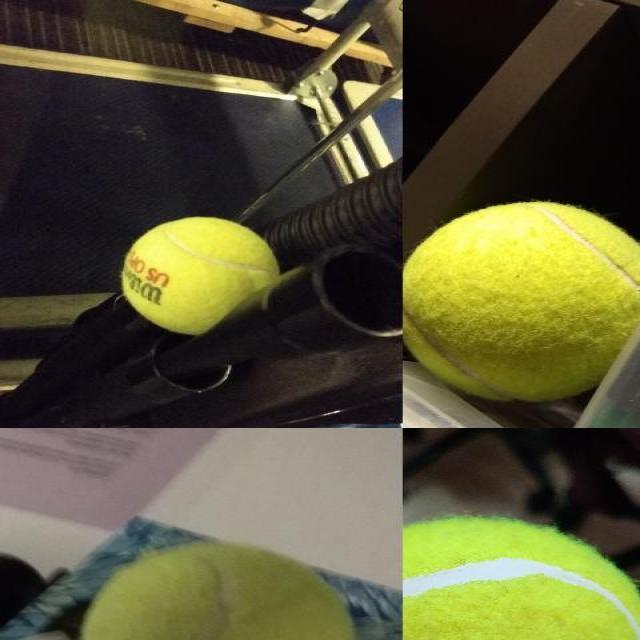tennis-ball: (403, 195, 619, 359), (403, 518, 639, 639), (77, 540, 359, 639), (119, 216, 281, 277)
